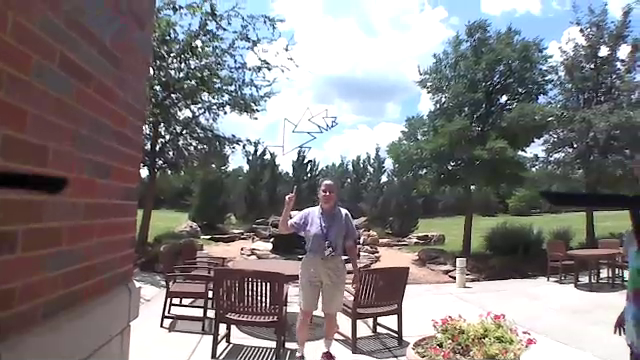up: (283, 180, 301, 208)
